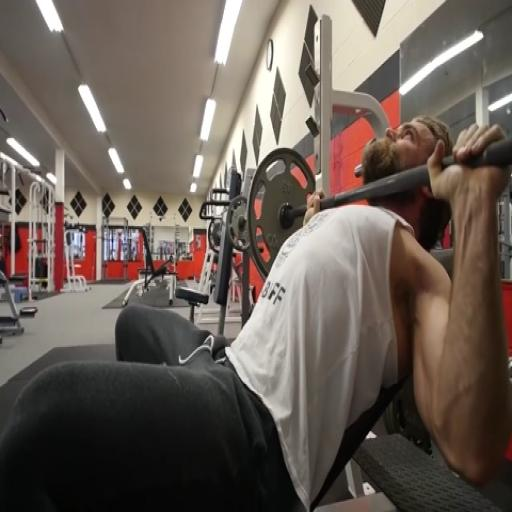exercise: (0, 112, 511, 510)
